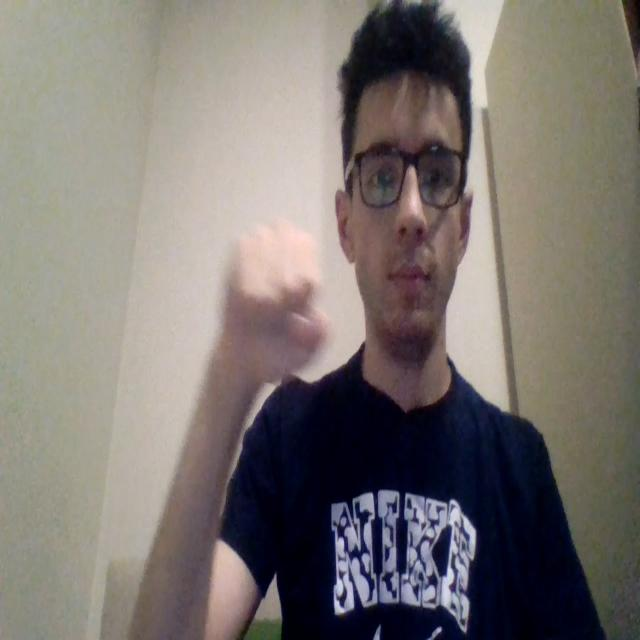yes: (222, 218, 330, 386)
